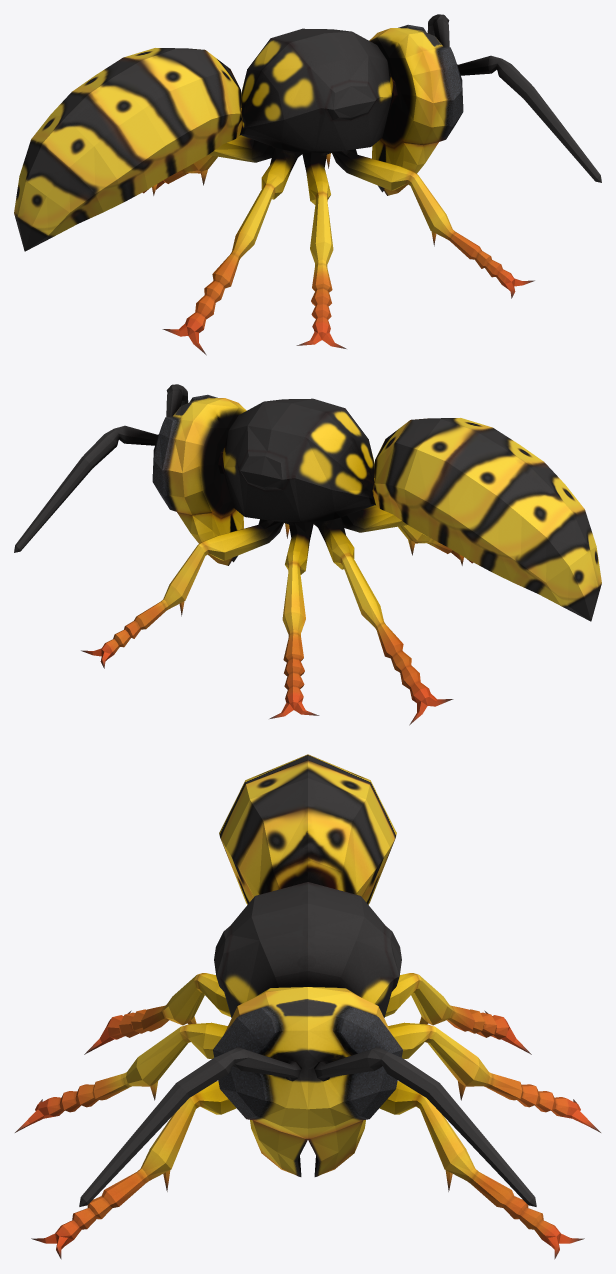
File: wasp.obj
3 views of the same model, one above another, from view 1: azimuth 30°, elevation 25°; view 2: azimuth 150°, elevation 25°; view 3: azimuth 270°, elevation 25° (orthographic). The views are drawn at different scales.
Parts seen in each view (by area): view 1: Default; view 2: Default; view 3: Default.
Part boxes in pixels (bbox=[...]): Default: bbox=[14, 14, 601, 355]; Default: bbox=[14, 384, 601, 725]; Default: bbox=[15, 754, 600, 1259].
Size of the model in its own units: 8.68 by 3.9 by 6.61.
1 material, 1 textured.
